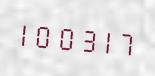one: (17, 14, 36, 52), (98, 21, 117, 59)
seven: (118, 23, 137, 61)
three: (78, 20, 97, 57)
zero: (37, 16, 56, 54), (58, 18, 77, 55)
